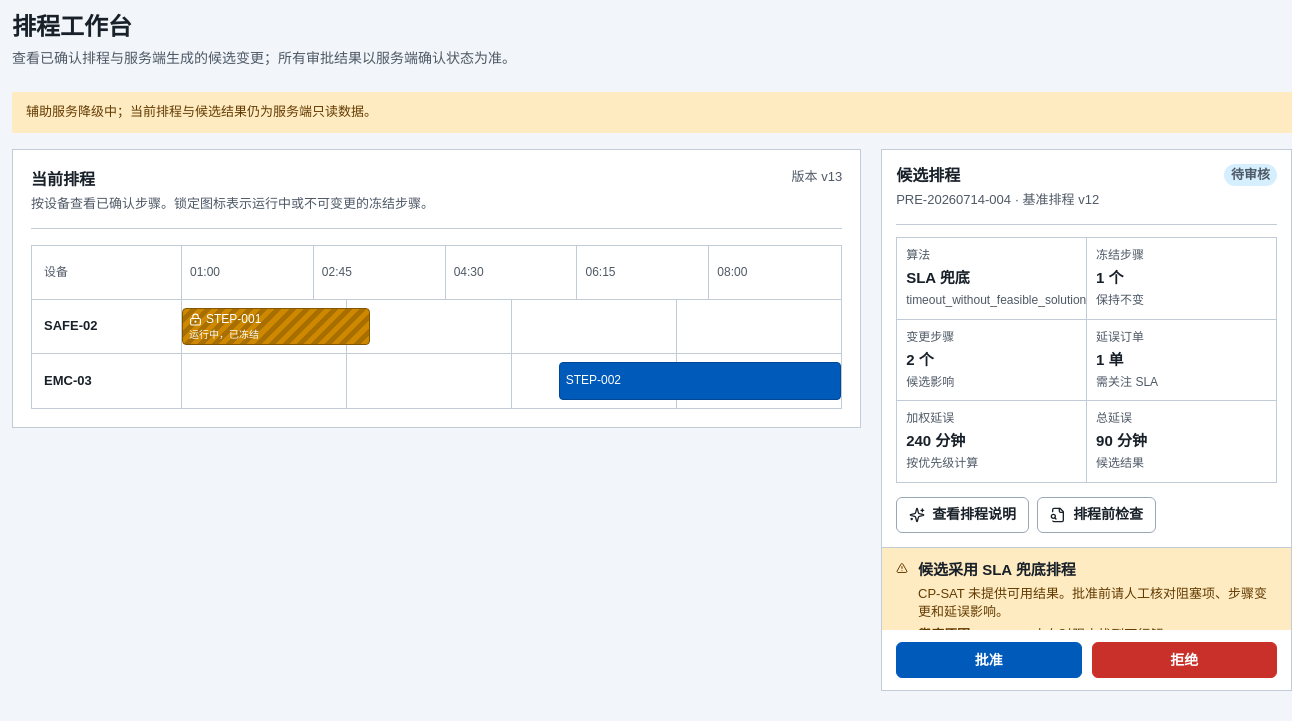
Test: SchedulingPage › recovers from a stale approval version by refreshing the candidate
The width and height of the screenshot is (1292, 721).
Click the button with aria-label "批准候选排程": click(989, 660) 896,642 -> 1082,678
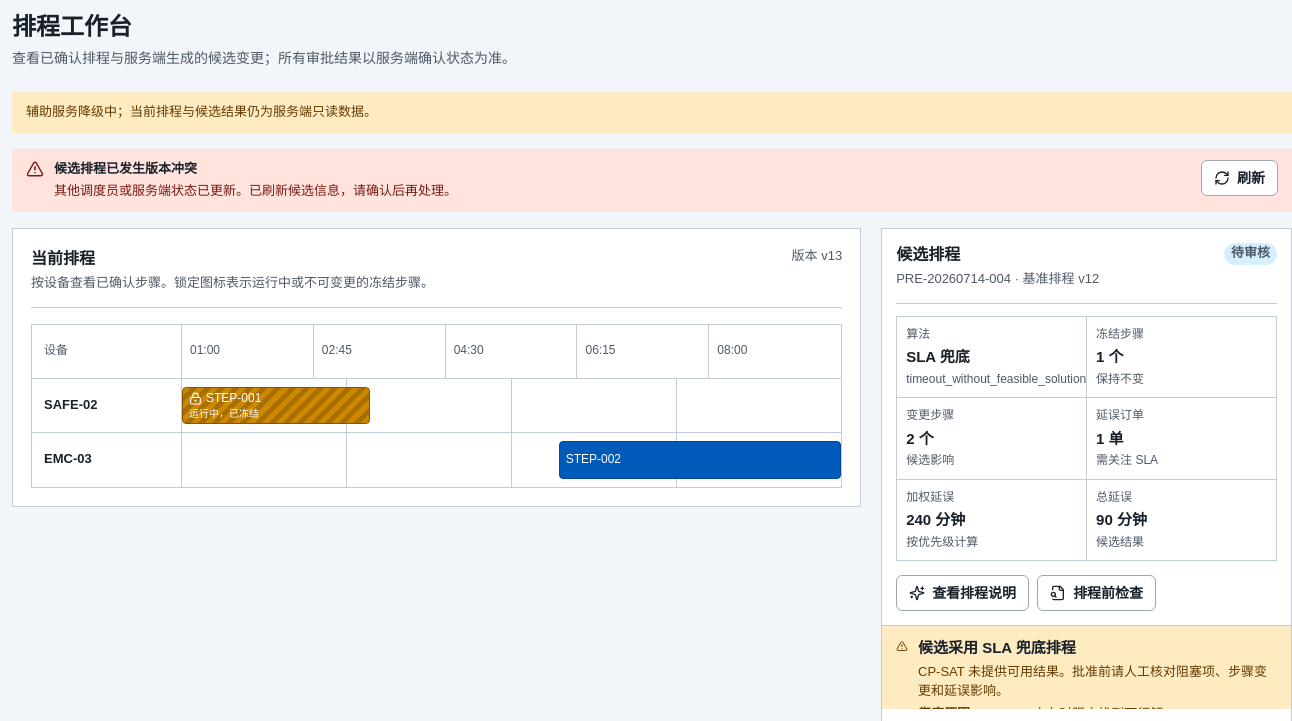
Expected: the message "候选排程已发生版本冲突 其他调度员或服务端状态已更新。已刷新候选信息，请确认后再处理。 刷新" is shown, 12,149 -> 1291,212
Expected: the button with aria-label "刷新候选排程" is shown, 1201,160 -> 1278,196
